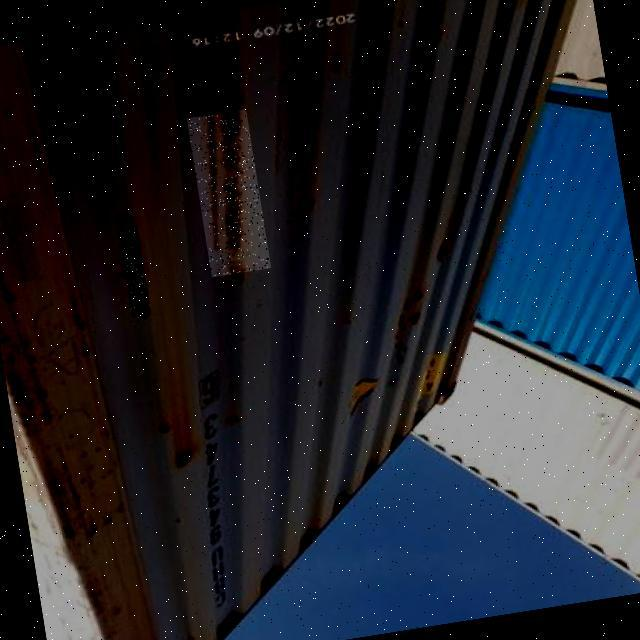Rust: (187, 109, 271, 277), (118, 225, 151, 318), (358, 26, 388, 56)
